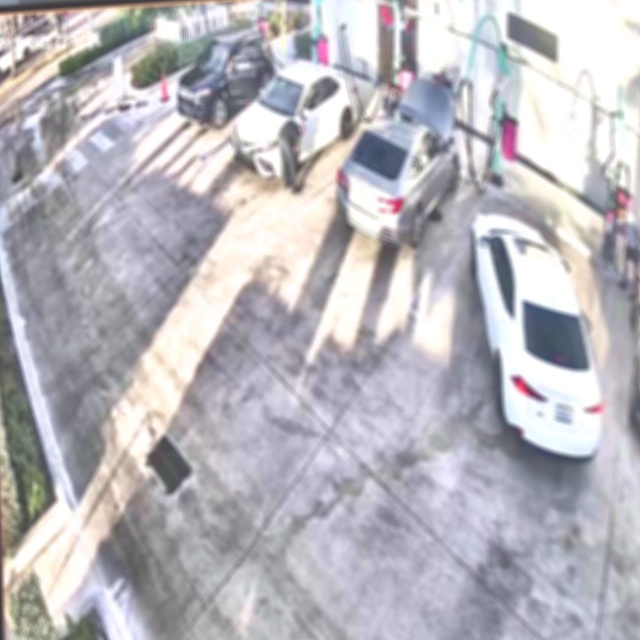Car: (470, 211, 605, 459), (332, 83, 463, 249), (232, 56, 365, 176)
